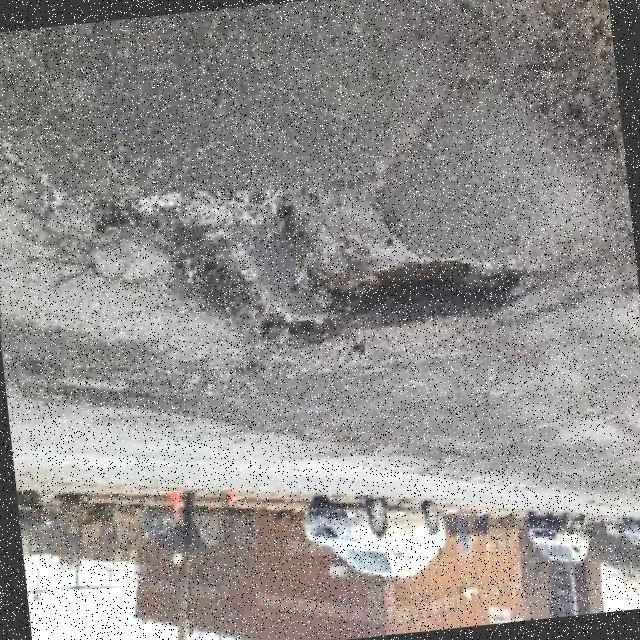Pothole: (99, 114, 551, 345)
